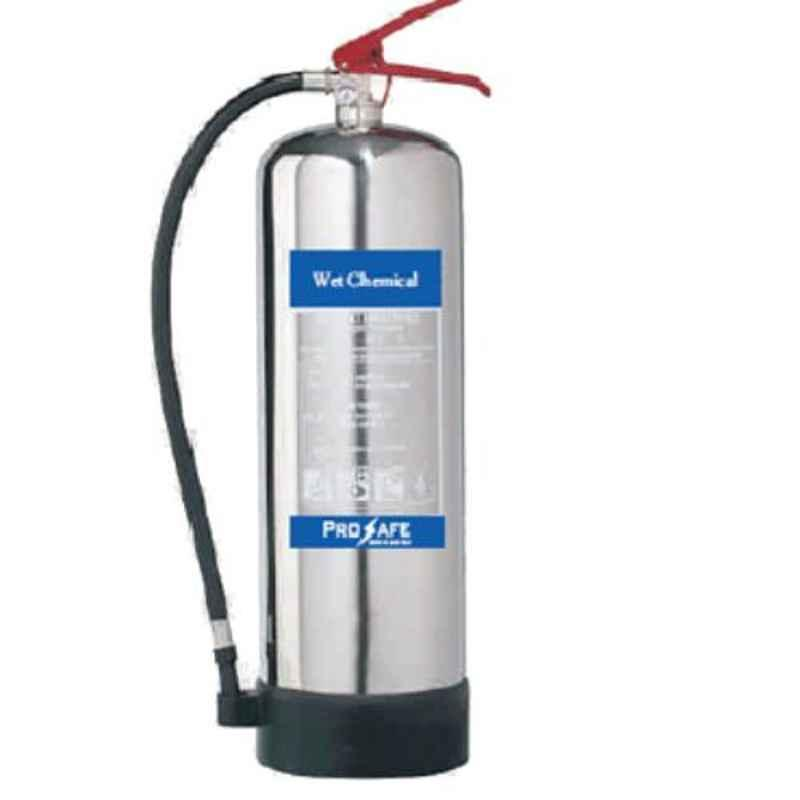Fire Extinguisher: (150, 0, 516, 786)
